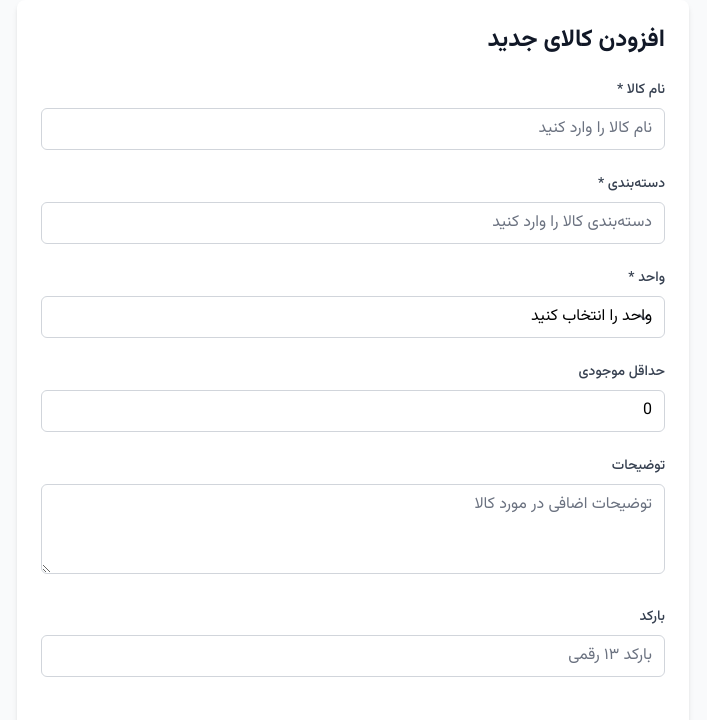
Scenario: ItemForm Component › Create Mode › should handle API errors
Fill valid form
Type "کالای تکراری" into the field labelled "نام کالا *".
click(353, 129); type("کالای تکراری")  # box [41,108,665,150]
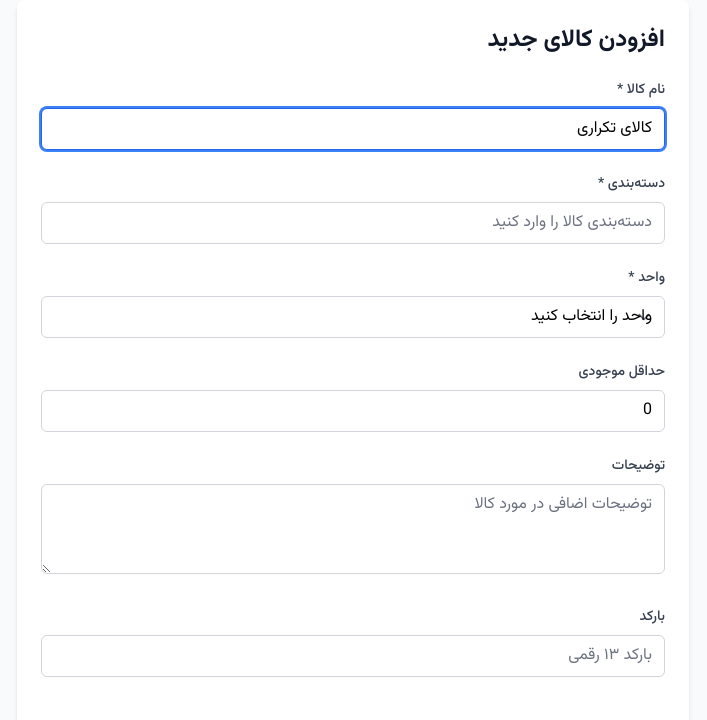
Type "تست" into the field labelled "دسته‌بندی *".
click(353, 223); type("تست")  # box [41,202,665,244]
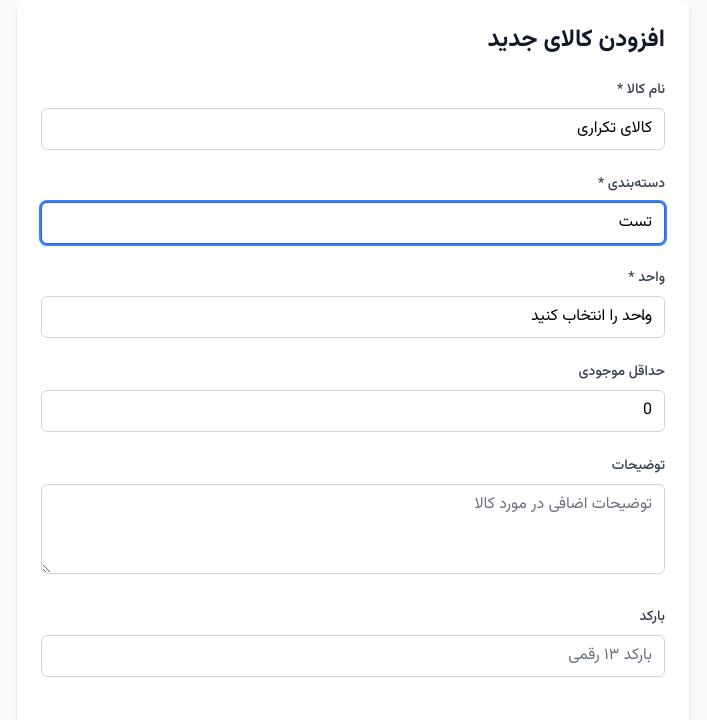
Select "کیلوگرم" in the dropdown labelled "واحد *" at (353, 317), box [41,296,665,338]
(page scrolled)
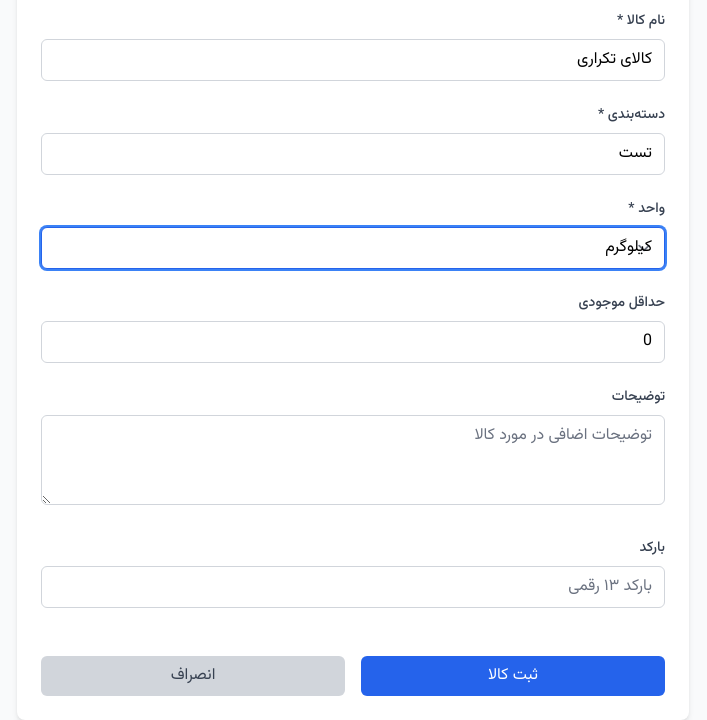
Click the button "ثبت کالا".
click(513, 676)  # box [361,656,665,696]
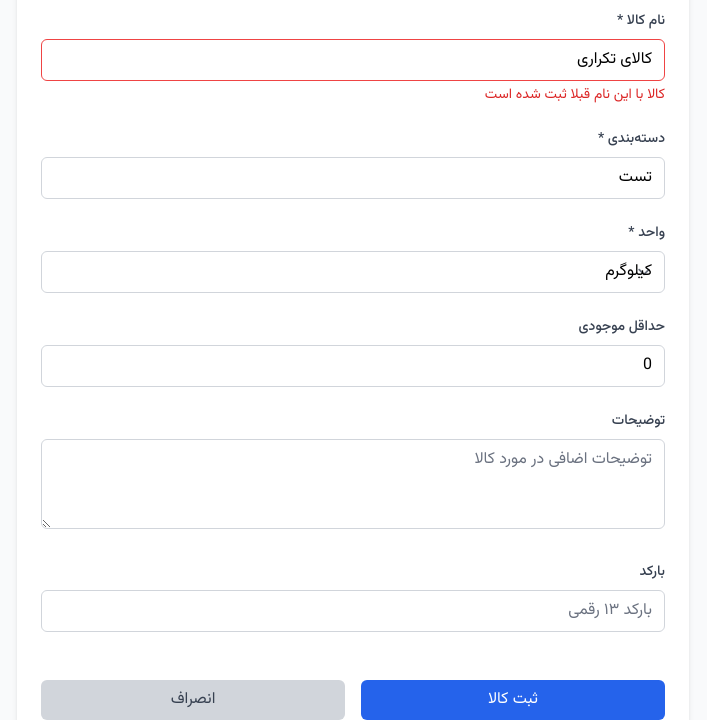
Expected: the text "کالا با این نام قبلا ثبت شده است" is shown, [485,84,665,106]
